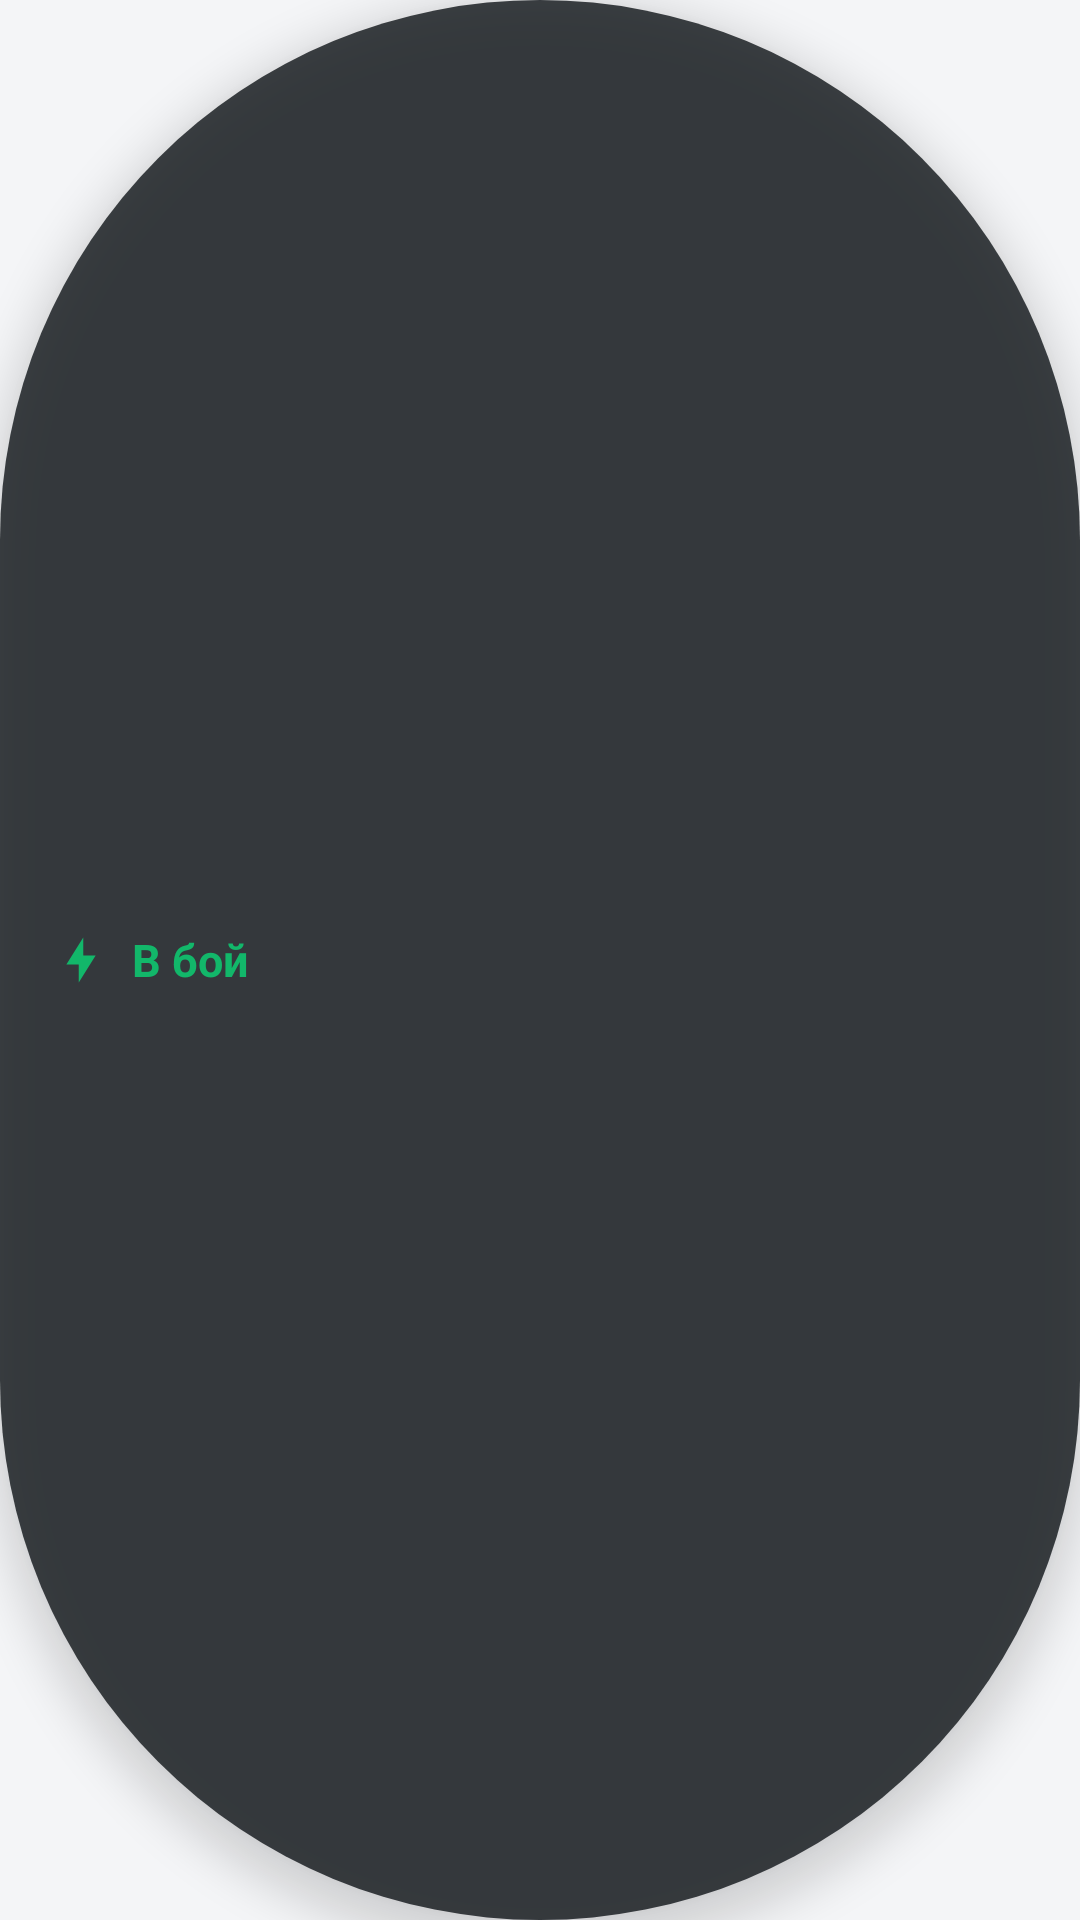

Icon click points for this 1080px x 1920px phone screenshot, format point (x, y):
Запустить: point (81, 960)
